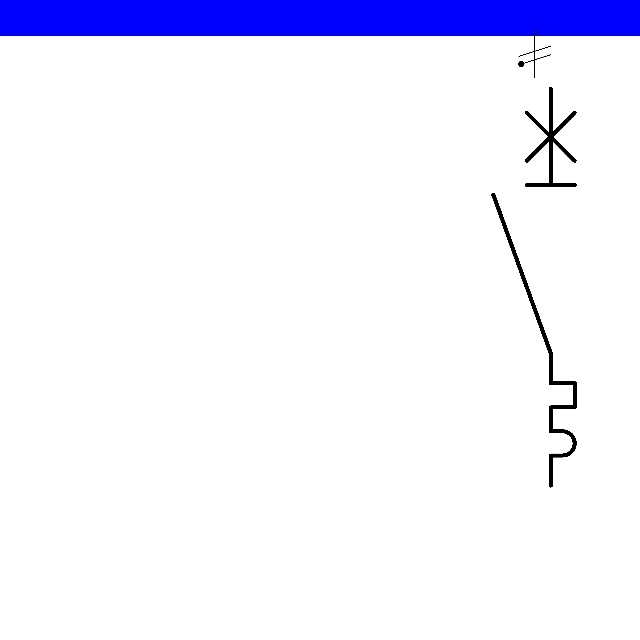interruptor_termomagnetico: (483, 78, 585, 496)
